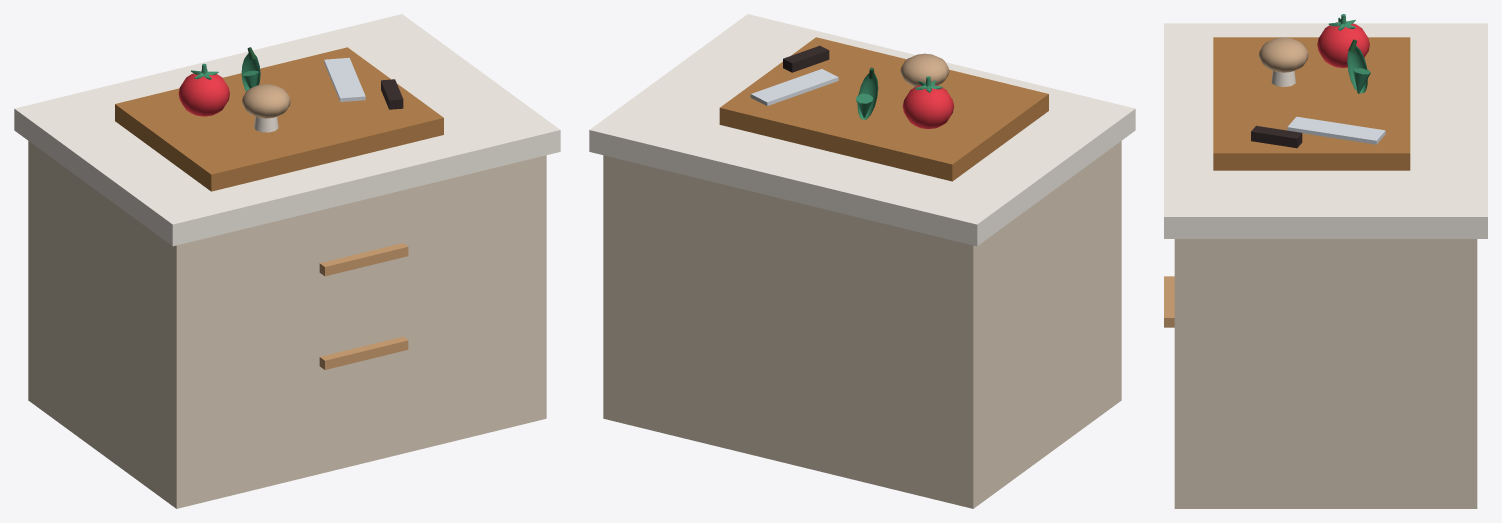
The model's file is station_cutting_board.glb.
3 renders of one model, left to right at view 1: azimuth 30°, elevation 25°; view 2: azimuth 150°, elevation 25°; view 3: azimuth 270°, elevation 25°, orthographic. The views are drawn at different scales.
Visible parts, largest first — view 1: CuttingBoard; view 2: CuttingBoard; view 3: CuttingBoard.
Part boxes in pixels (x1,y1,x2,y2): CuttingBoard: (14,14,560,508); CuttingBoard: (589,14,1135,508); CuttingBoard: (1164,14,1487,508).
Bounding box in the file's own units: 1.3 × 1.15 × 0.92.
